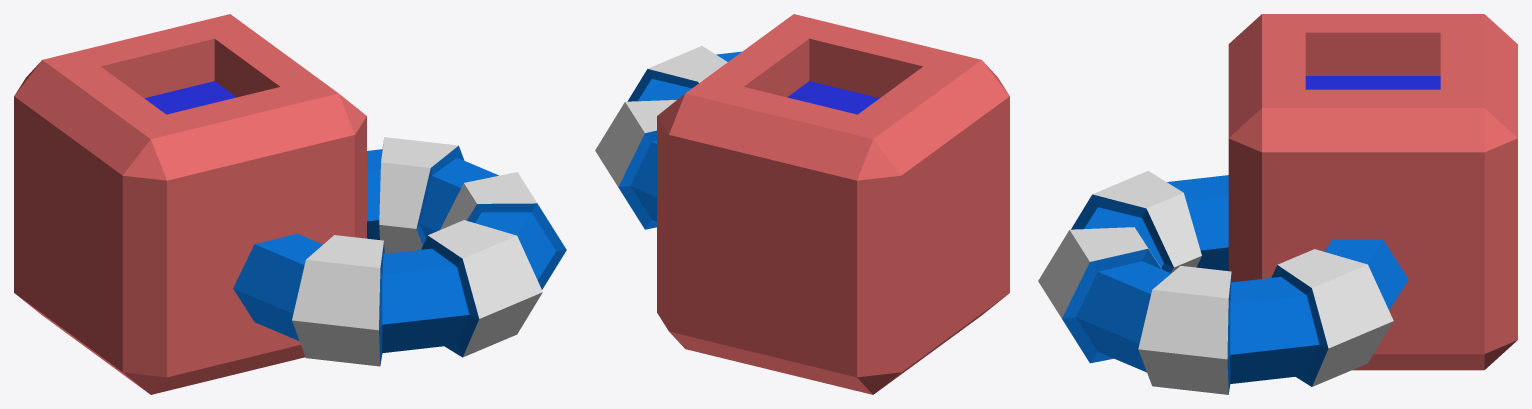
File: fusion1.gltf
3 renders of one model, left to right at view 1: azimuth 30°, elevation 25°; view 2: azimuth 150°, elevation 25°; view 3: azimuth 270°, elevation 25°, orthographic. The views are drawn at different scales.
Visible parts, largest first — view 1: Cube, Torus.001; view 2: Cube, Torus.001; view 3: Cube, Torus.001.
Boxes of the visible parts, x1=… form: Cube: x1=14, y1=14, x2=366, y2=394; Torus.001: x1=233, y1=137, x2=566, y2=366; Cube: x1=657, y1=14, x2=1009, y2=394; Torus.001: x1=595, y1=46, x2=741, y2=229; Cube: x1=1228, y1=14, x2=1517, y2=370; Torus.001: x1=1038, y1=171, x2=1408, y2=394.
Bounding box in the file's own units: 1.74 × 1.05 × 1.74.
